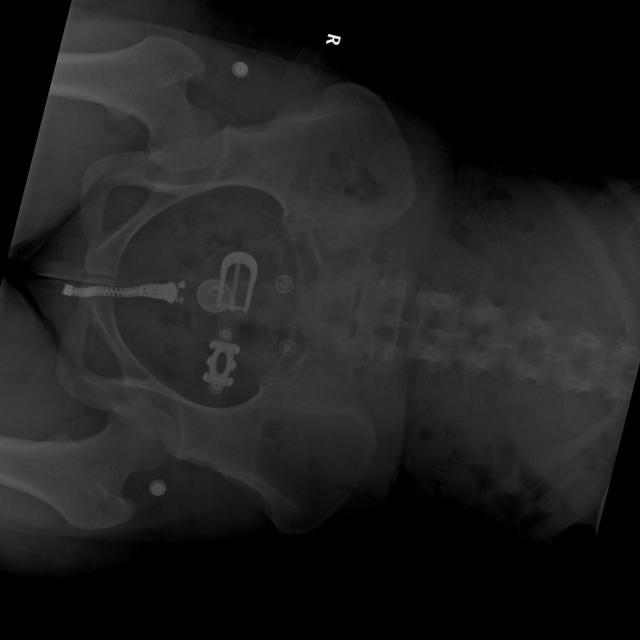normal-left: (0, 397, 176, 529)
normal-right: (47, 34, 218, 172)
